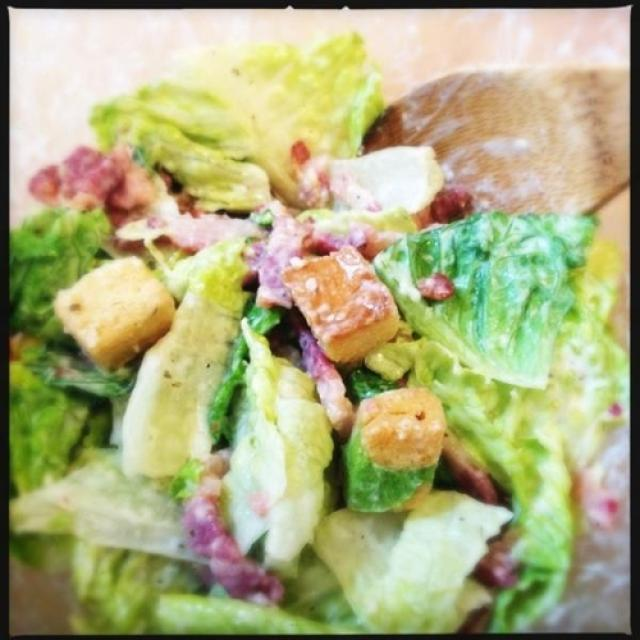蔬菜料理: (13, 39, 612, 620)
